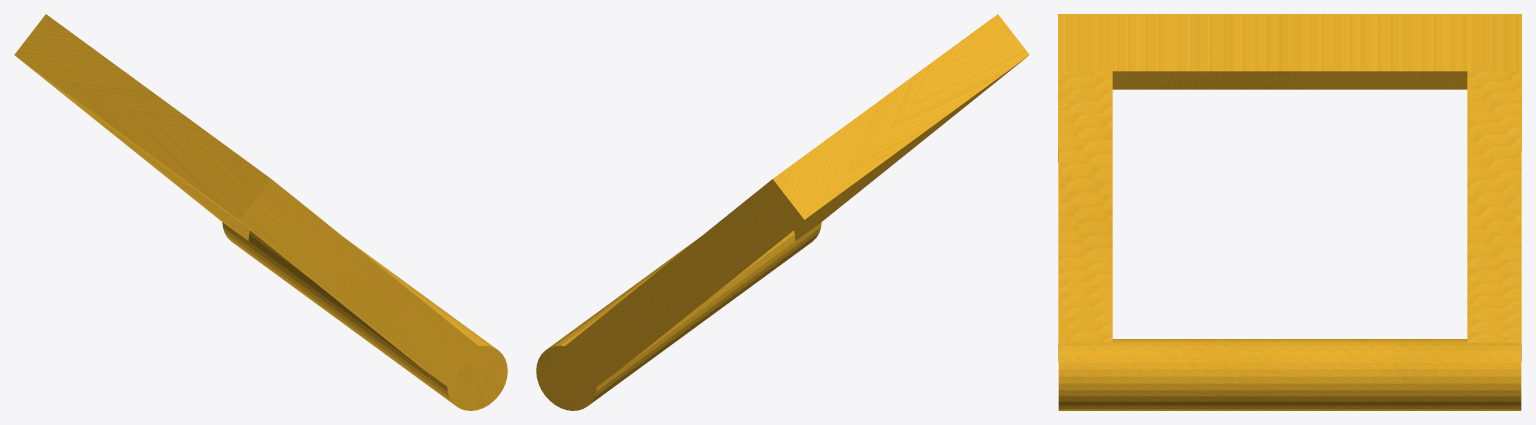
The model's file is Palanca.glb.
The picture shows the model from 3 angles, left to right: view 1: azimuth 30°, elevation 25°; view 2: azimuth 150°, elevation 25°; view 3: azimuth 270°, elevation 25°; orthographic projection. The views are drawn at different scales.
Parts seen in each view (by area): view 1: Cilindro.010; view 2: Cilindro.010; view 3: Cilindro.010.
Part boxes in pixels (left/top/right/bottom): Cilindro.010: left=14, top=14, right=507, bottom=410; Cilindro.010: left=536, top=14, right=1029, bottom=410; Cilindro.010: left=1058, top=14, right=1521, bottom=410.
Bounding box in the file's own units: 0.3562 × 0.3571 × 0.5176.
Materials: 1 (1 with a texture image).
